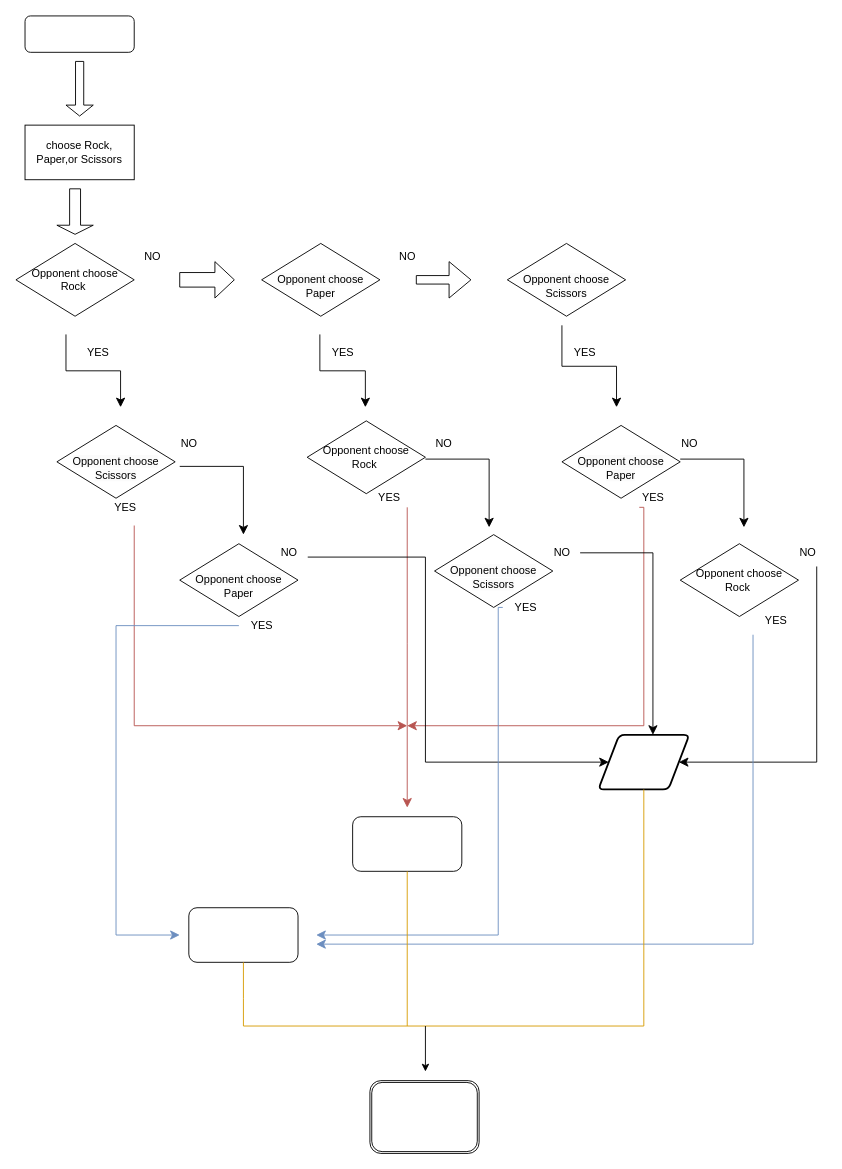
This 842x1169 diagram has some shape labels left out. Here are the shapes that lost their labels. From the top down, the centre of each, then its label:
At pixel 79 33: "START".
At pixel 643 761: "You Tie".
At pixel 407 843: "You lost this round".
At pixel 243 934: "You win this round".
At pixel 424 1116: "The End".
